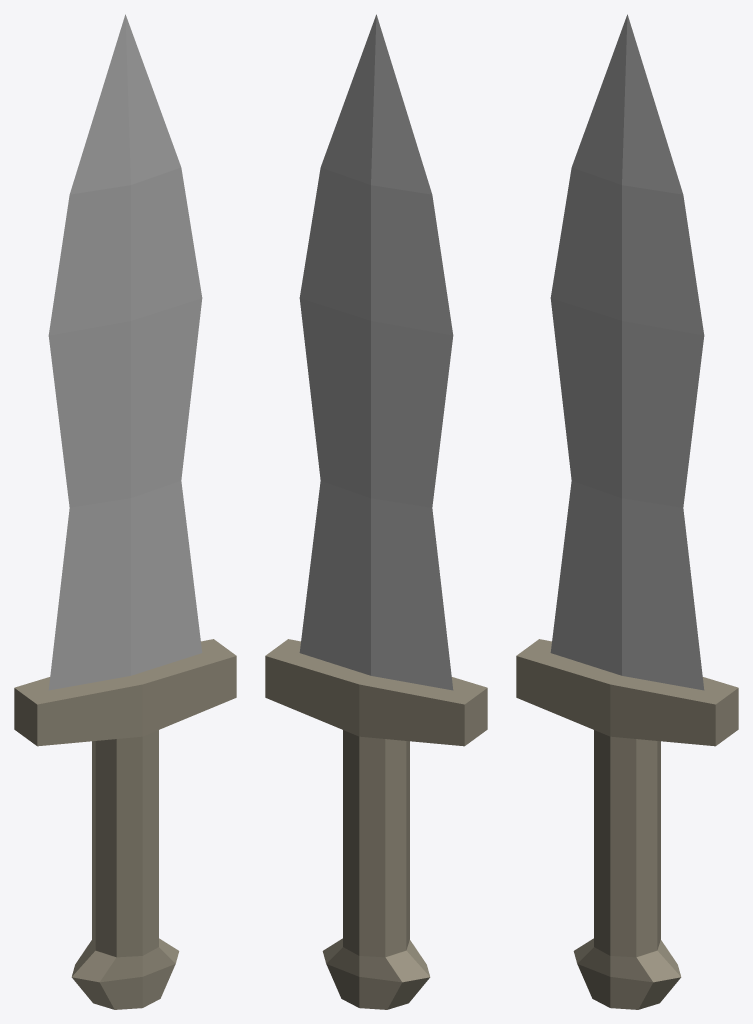
Rendered from dagger.fbx.
3 views of the same model, side by side, from view 1: azimuth 30°, elevation 25°; view 2: azimuth 150°, elevation 25°; view 3: azimuth 330°, elevation 25° (orthographic).
Parts seen in each view (by area): view 1: Cube.034; view 2: Cube.034; view 3: Cube.034.
Boxes of the visible parts, <box> form: Cube.034: <box>14,14,236,1009</box>; Cube.034: <box>265,14,487,1009</box>; Cube.034: <box>516,14,738,1009</box>.
Bounding box in the file's own units: 0.07 × 0.3289 × 0.021.
